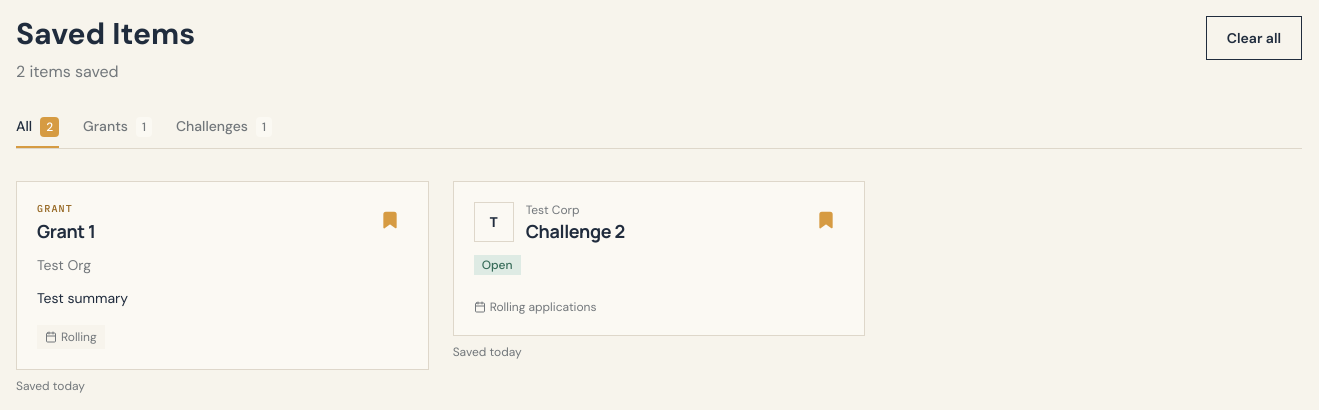
SavedPage › filters items by type
Expected: the heading "Grant 1" is shown, left=37, top=219, right=96, bottom=243
Expected: the heading "Challenge 2" is shown, left=526, top=219, right=625, bottom=243
// Click grants filter
Click the button named "grants 1". click: (118, 132)
box: left=83, top=116, right=152, bottom=148
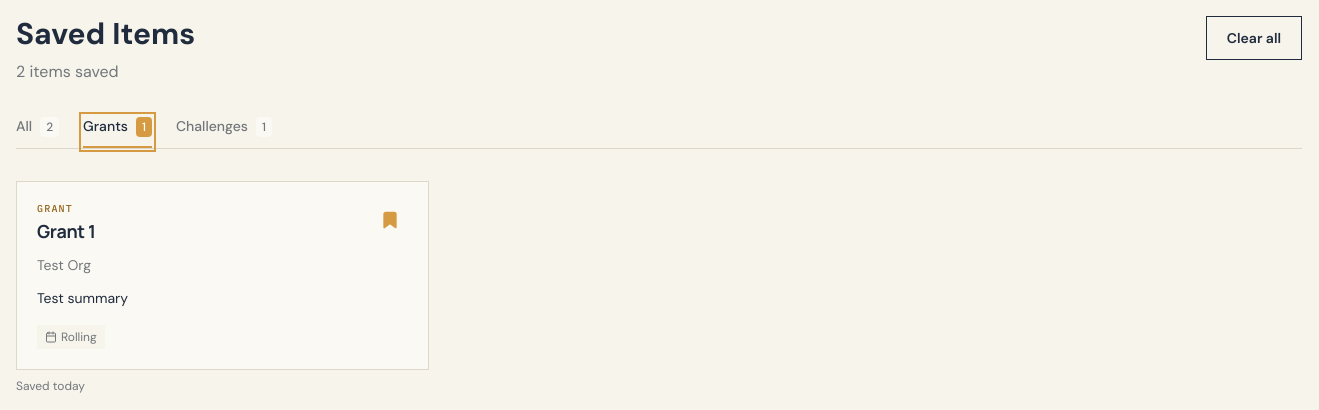
Expected: the heading "Grant 1" is shown, left=37, top=219, right=96, bottom=243
Expected: the link "Challenge 2" is gone
